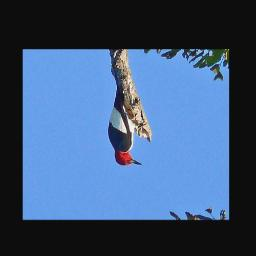Woodpecker: (100, 68, 147, 173)
